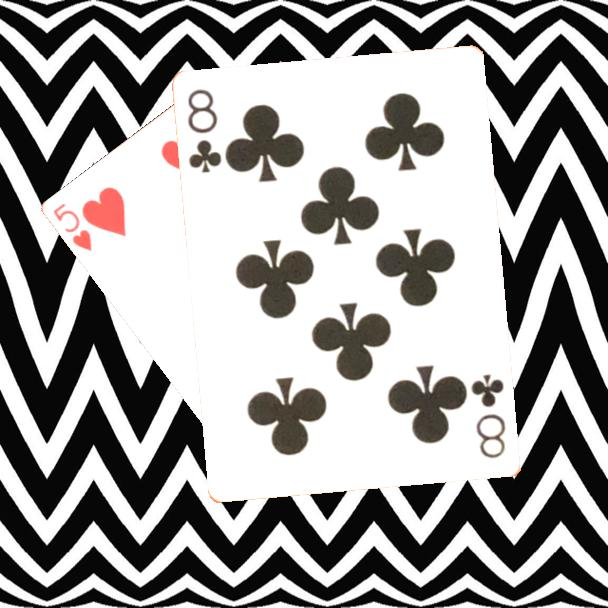c08: (468, 371, 509, 462), (185, 86, 225, 176)
h05: (50, 200, 96, 254)
